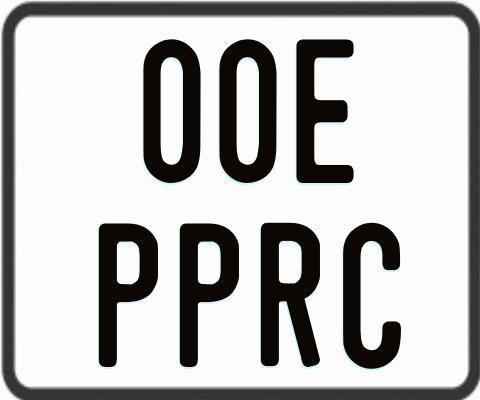0: (219, 36, 282, 185), (140, 36, 201, 186)
C: (340, 222, 401, 371)
E: (294, 37, 356, 182)
P: (98, 222, 158, 371), (179, 221, 238, 368)
R: (259, 221, 323, 371)
